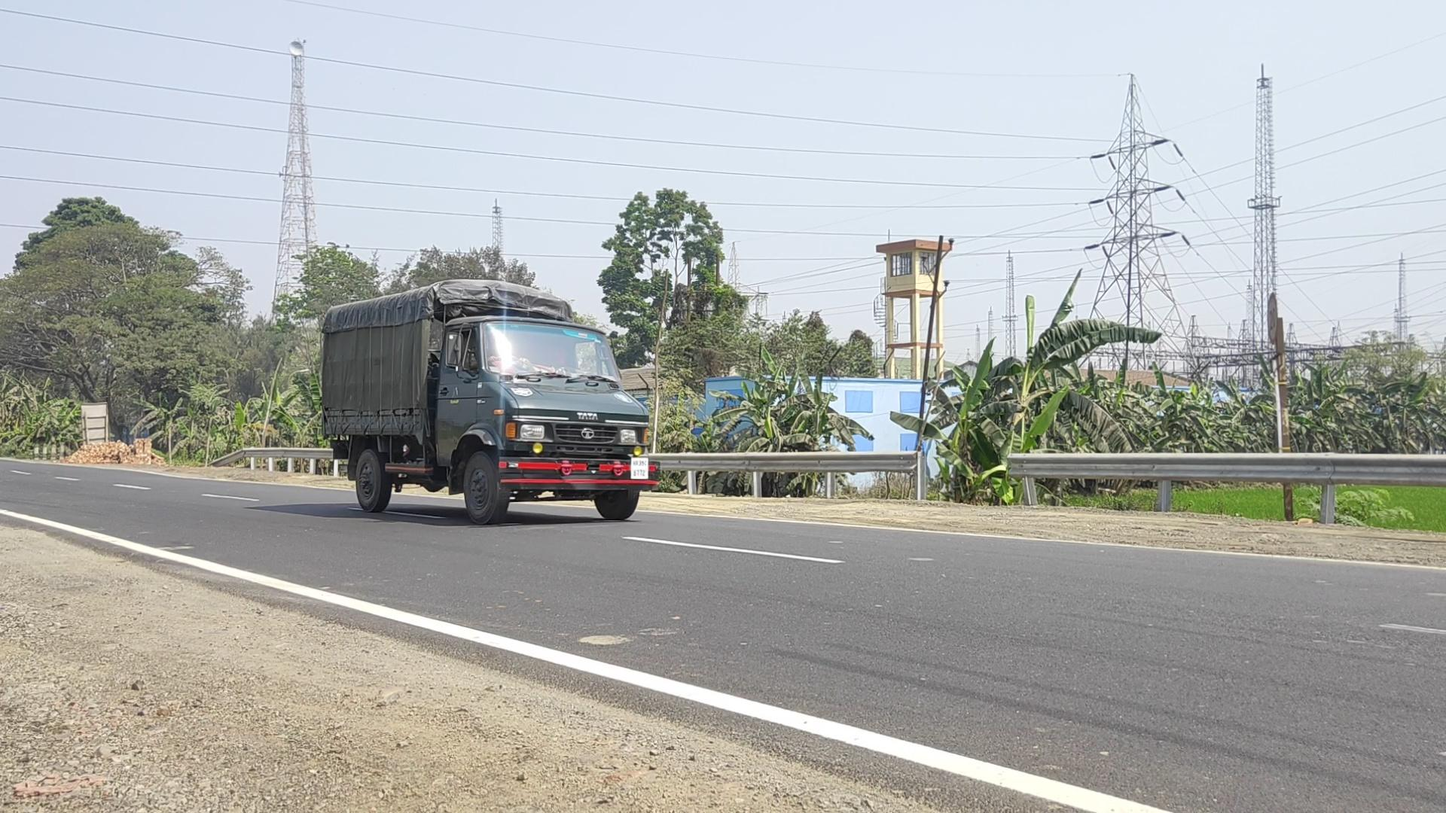truck: (320, 279, 661, 527)
